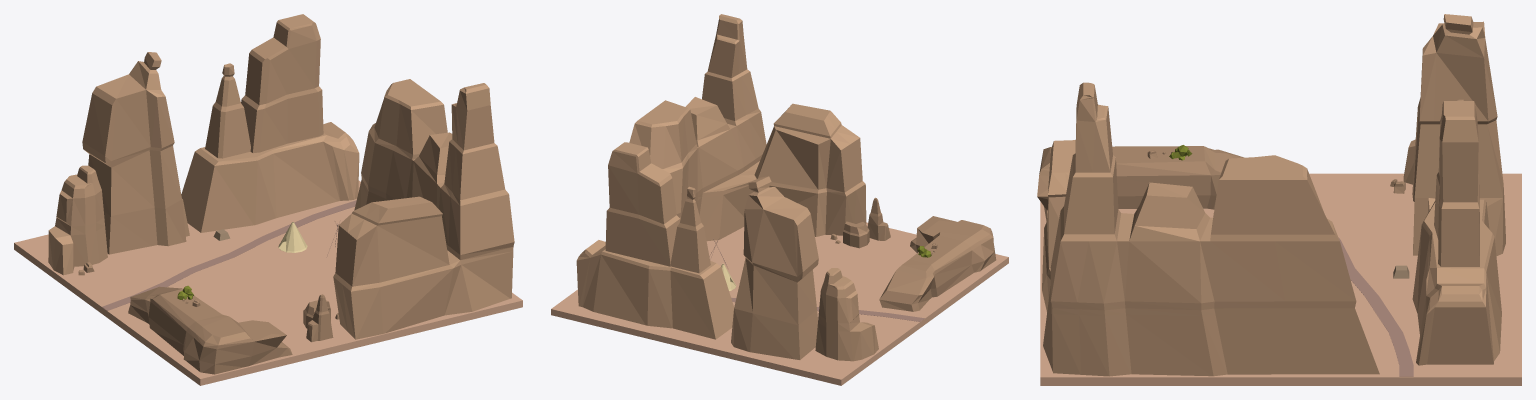
The model's file is lowpolydesert.fbx.
The picture shows the model from 3 angles, left to right: view 1: azimuth 30°, elevation 25°; view 2: azimuth 150°, elevation 25°; view 3: azimuth 270°, elevation 25°; orthographic projection. The views are drawn at different scales.
Visible parts, largest first — view 1: Cube.008, Cube, Cube.018, Cube.007, Cone.002; view 2: Cube.008, Cube, Cube.018; view 3: Cube.008, Cube, Cube.018, Cube.007.
Boxes of the visible parts, x1,y1,x2,y2 form: Cube.008: (48,14,514,339); Cube: (14,180,522,385); Cube.018: (78,262,339,374); Cube.007: (102,200,356,310); Cone.002: (278,222,307,252); Cube.008: (576,14,878,361); Cube: (551,222,1008,385); Cube.018: (830,197,996,311); Cube.008: (1042,14,1505,376); Cube: (1040,173,1521,385); Cube.018: (1037,146,1405,221); Cube.007: (1338,237,1413,376).
Size of the model in its own units: 1.99 by 1.27 by 2.
